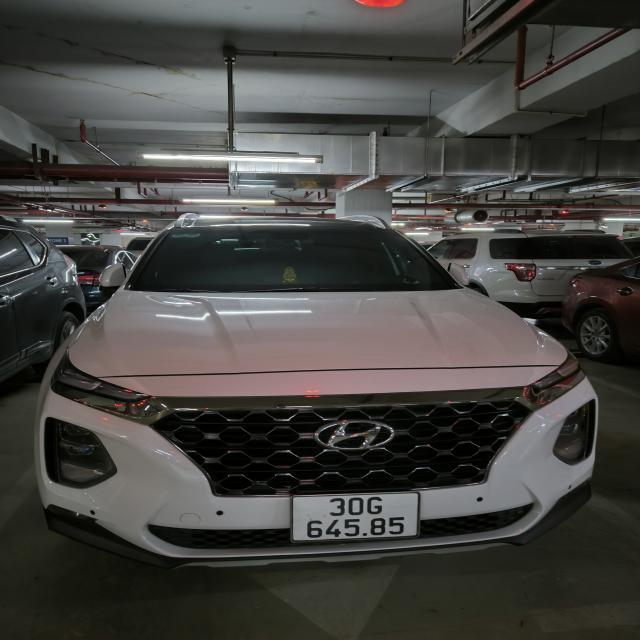license: (289, 490, 419, 543)
